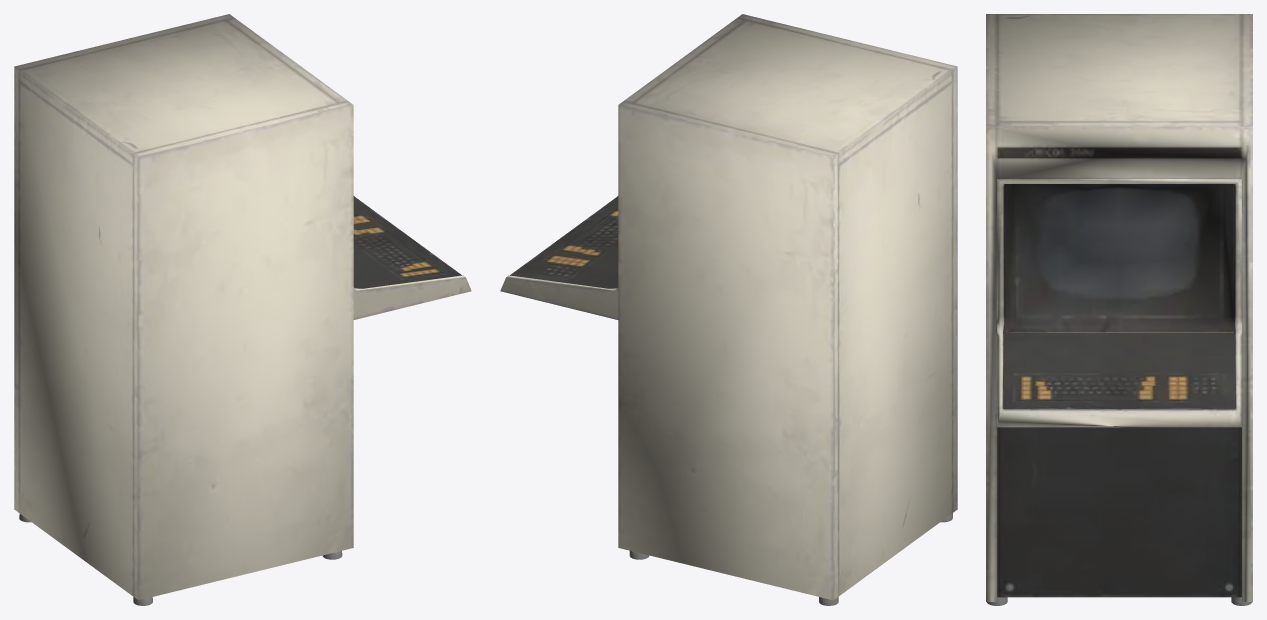
The model's file is computer_cabinet_a.glb.
3 views of the same model, side by side, from view 1: azimuth 30°, elevation 25°; view 2: azimuth 150°, elevation 25°; view 3: azimuth 270°, elevation 25° (orthographic). The views are drawn at different scales.
Parts seen in each view (by area): view 1: computer_cabinet_a; view 2: computer_cabinet_a; view 3: computer_cabinet_a.
Part boxes in pixels (box(x1,y1,x2,y2)): computer_cabinet_a: box(14, 14, 471, 605); computer_cabinet_a: box(500, 14, 957, 605); computer_cabinet_a: box(986, 14, 1252, 605).
Bounding box in the file's own units: 1.18 × 1.5 × 0.75.
1 material, 1 textured.
